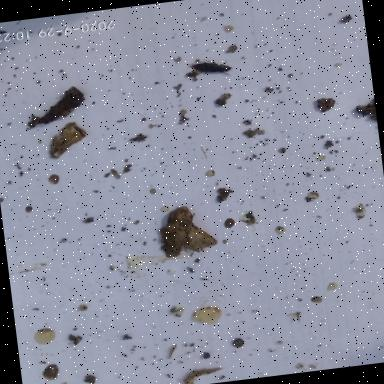pbw: (154, 200, 221, 260), (45, 124, 94, 160)
